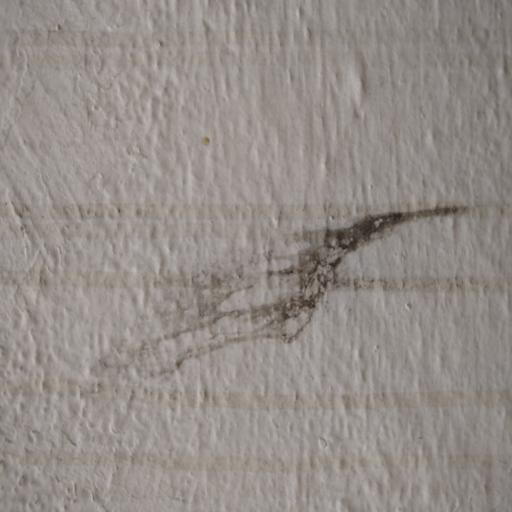stain: (3, 177, 512, 420)
